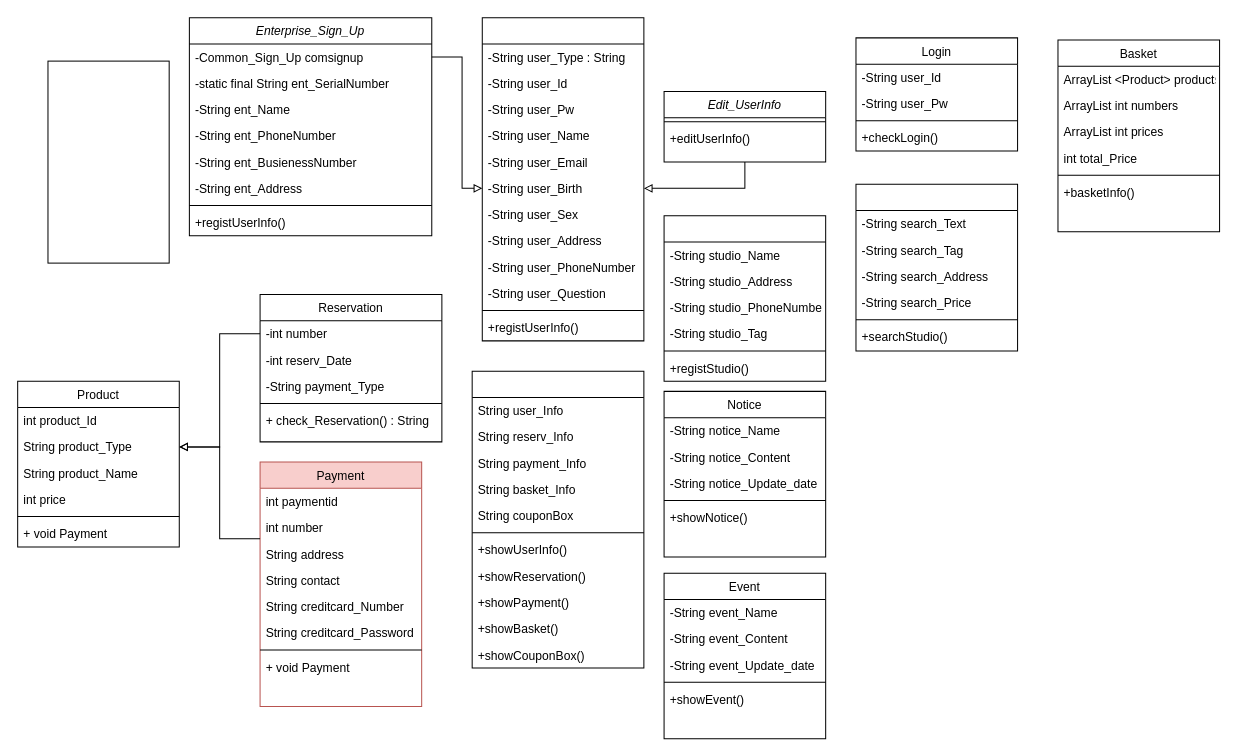
The diagram is 1237 pixels wide and 756 high, and some of its shapes have lost their labels. Each missing label, with the box of its shape:
+ : public - : private # : protected ~ : default: (47, 60, 169, 263)
CommonSignUp: (481, 17, 644, 341)
Studio_Registration: (663, 215, 826, 381)
Studio_Search: (855, 183, 1018, 351)
User_Management: (471, 370, 644, 668)
